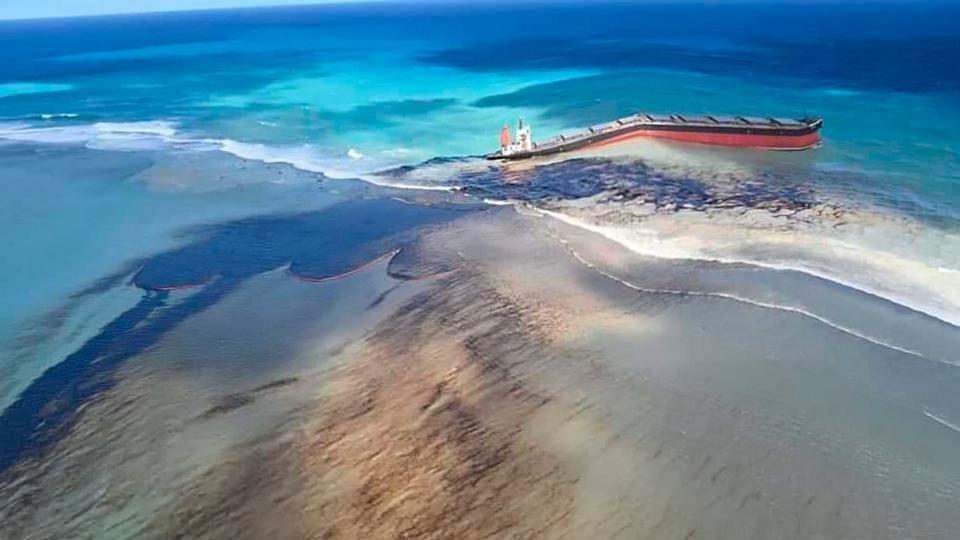Oil Pollution: (14, 160, 818, 464)
